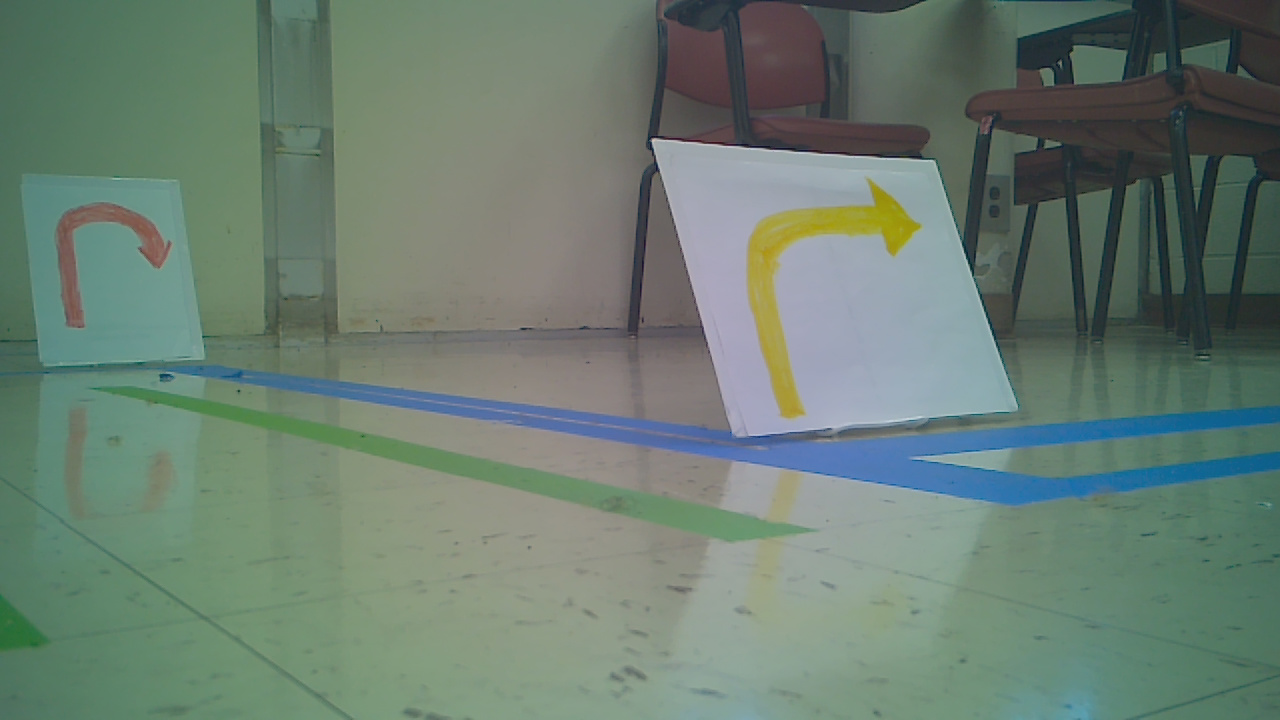greenline: (98, 388, 796, 543)
right: (724, 172, 927, 416)
uturn: (42, 198, 176, 333)
